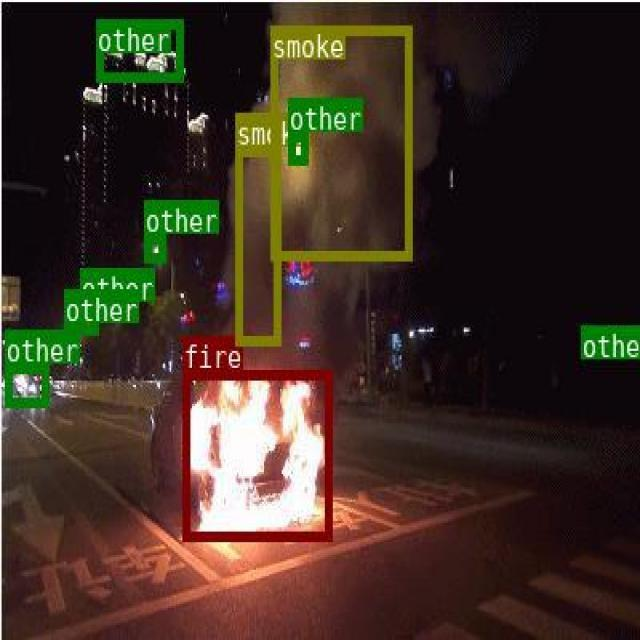fire: (182, 369, 330, 540)
smoke: (270, 24, 410, 259), (234, 145, 279, 344)
